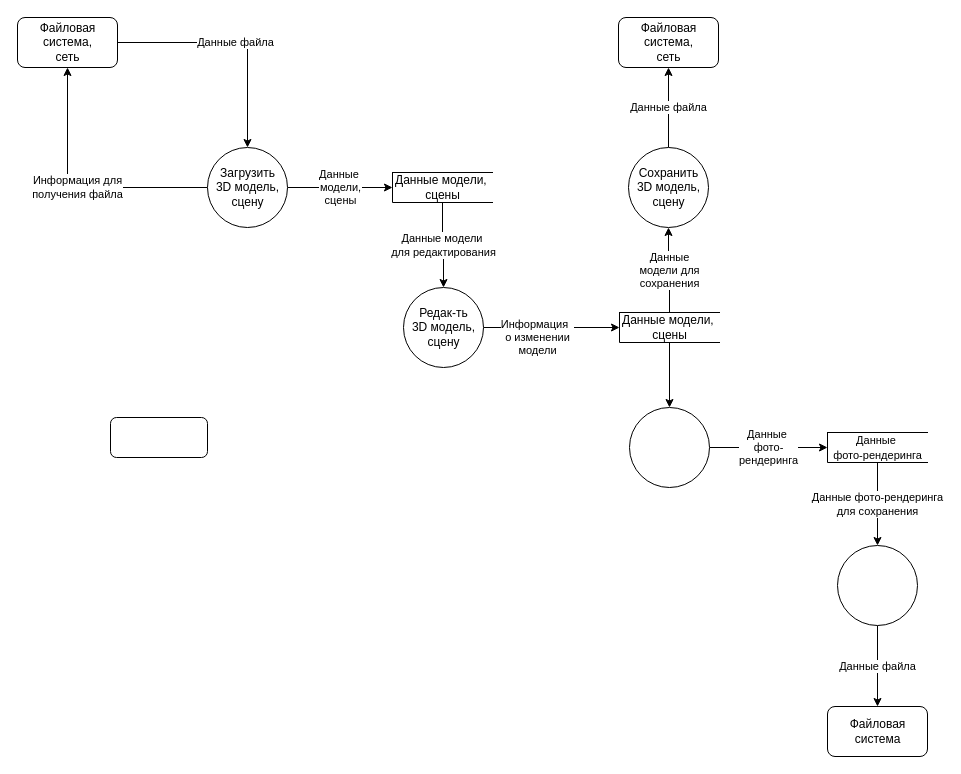
This 961x774 diagram has some shape labels left out. Here are the shapes that lost their labels. From the top down, the centre of each, then its label:
At [159,437]: "Дизайнер".
At [669,447]: "Запустить фото- рендеринг".
At [877,585]: "Сохранить результат фото- рендеринга".
